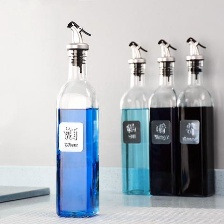bottle: (51, 52, 101, 219), (176, 58, 218, 199), (118, 60, 154, 195), (148, 61, 181, 199)
